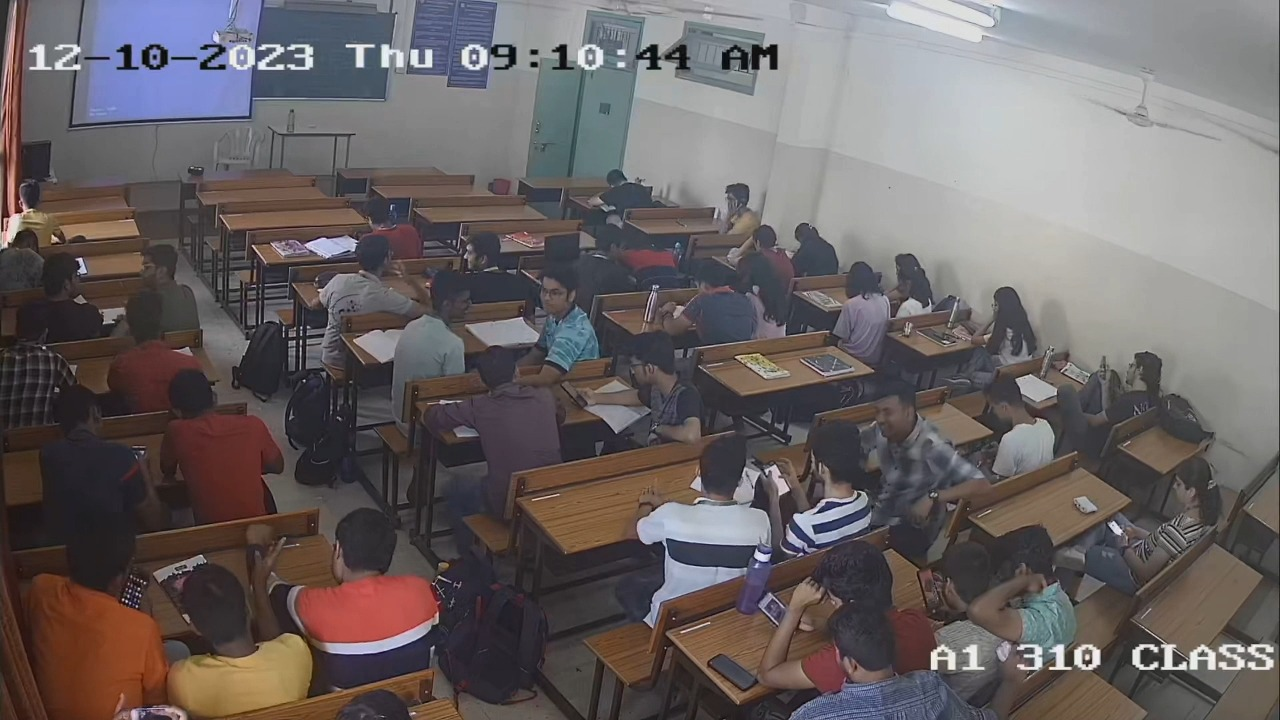cell-phones: (705, 649, 760, 695), (913, 562, 946, 617), (115, 564, 153, 611), (752, 586, 790, 630), (759, 457, 794, 499), (558, 378, 590, 411), (1105, 519, 1129, 541), (1097, 355, 1112, 385), (959, 317, 976, 335)
person: (18, 507, 172, 705), (790, 594, 954, 720), (768, 418, 874, 550), (928, 538, 1011, 676), (793, 541, 900, 647), (624, 331, 704, 440), (1141, 456, 1222, 545), (974, 286, 1036, 359), (1100, 351, 1163, 408)
